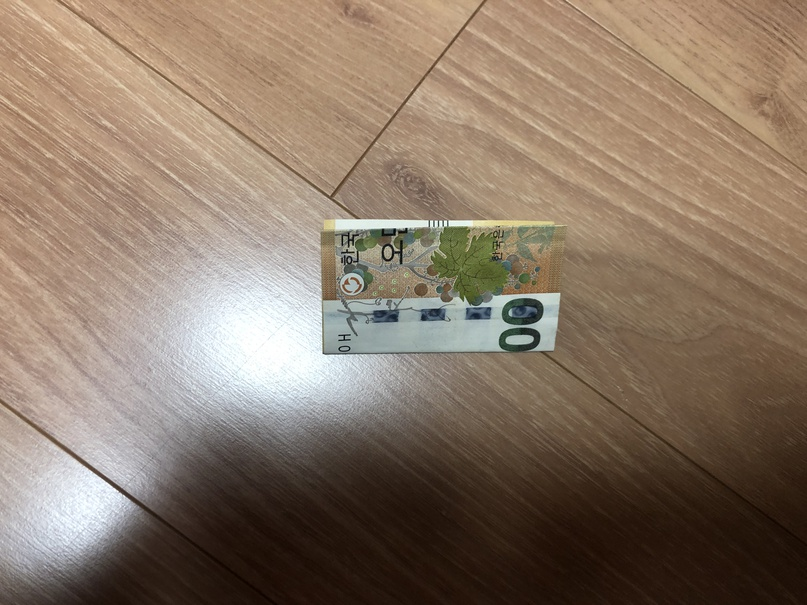50000won: (320, 218, 568, 354)
